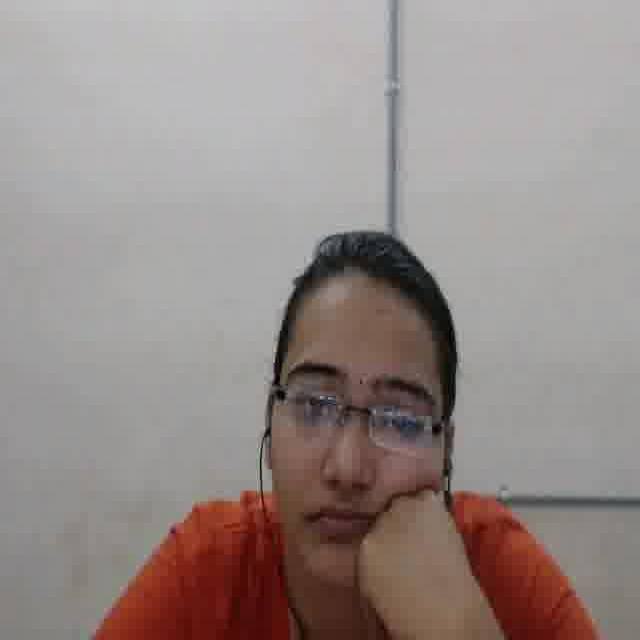Boredom: (270, 281, 445, 595)
